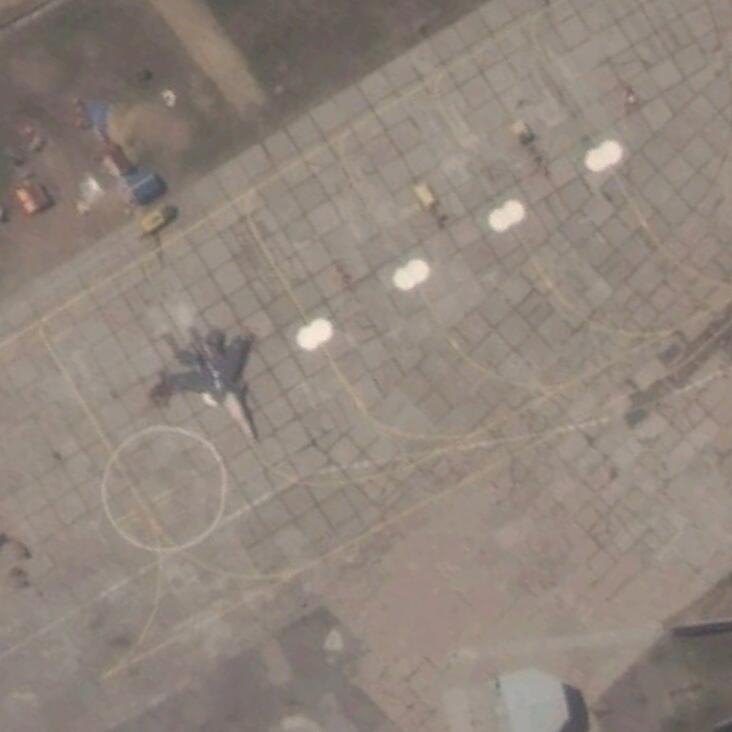A19: (154, 324, 263, 444)
